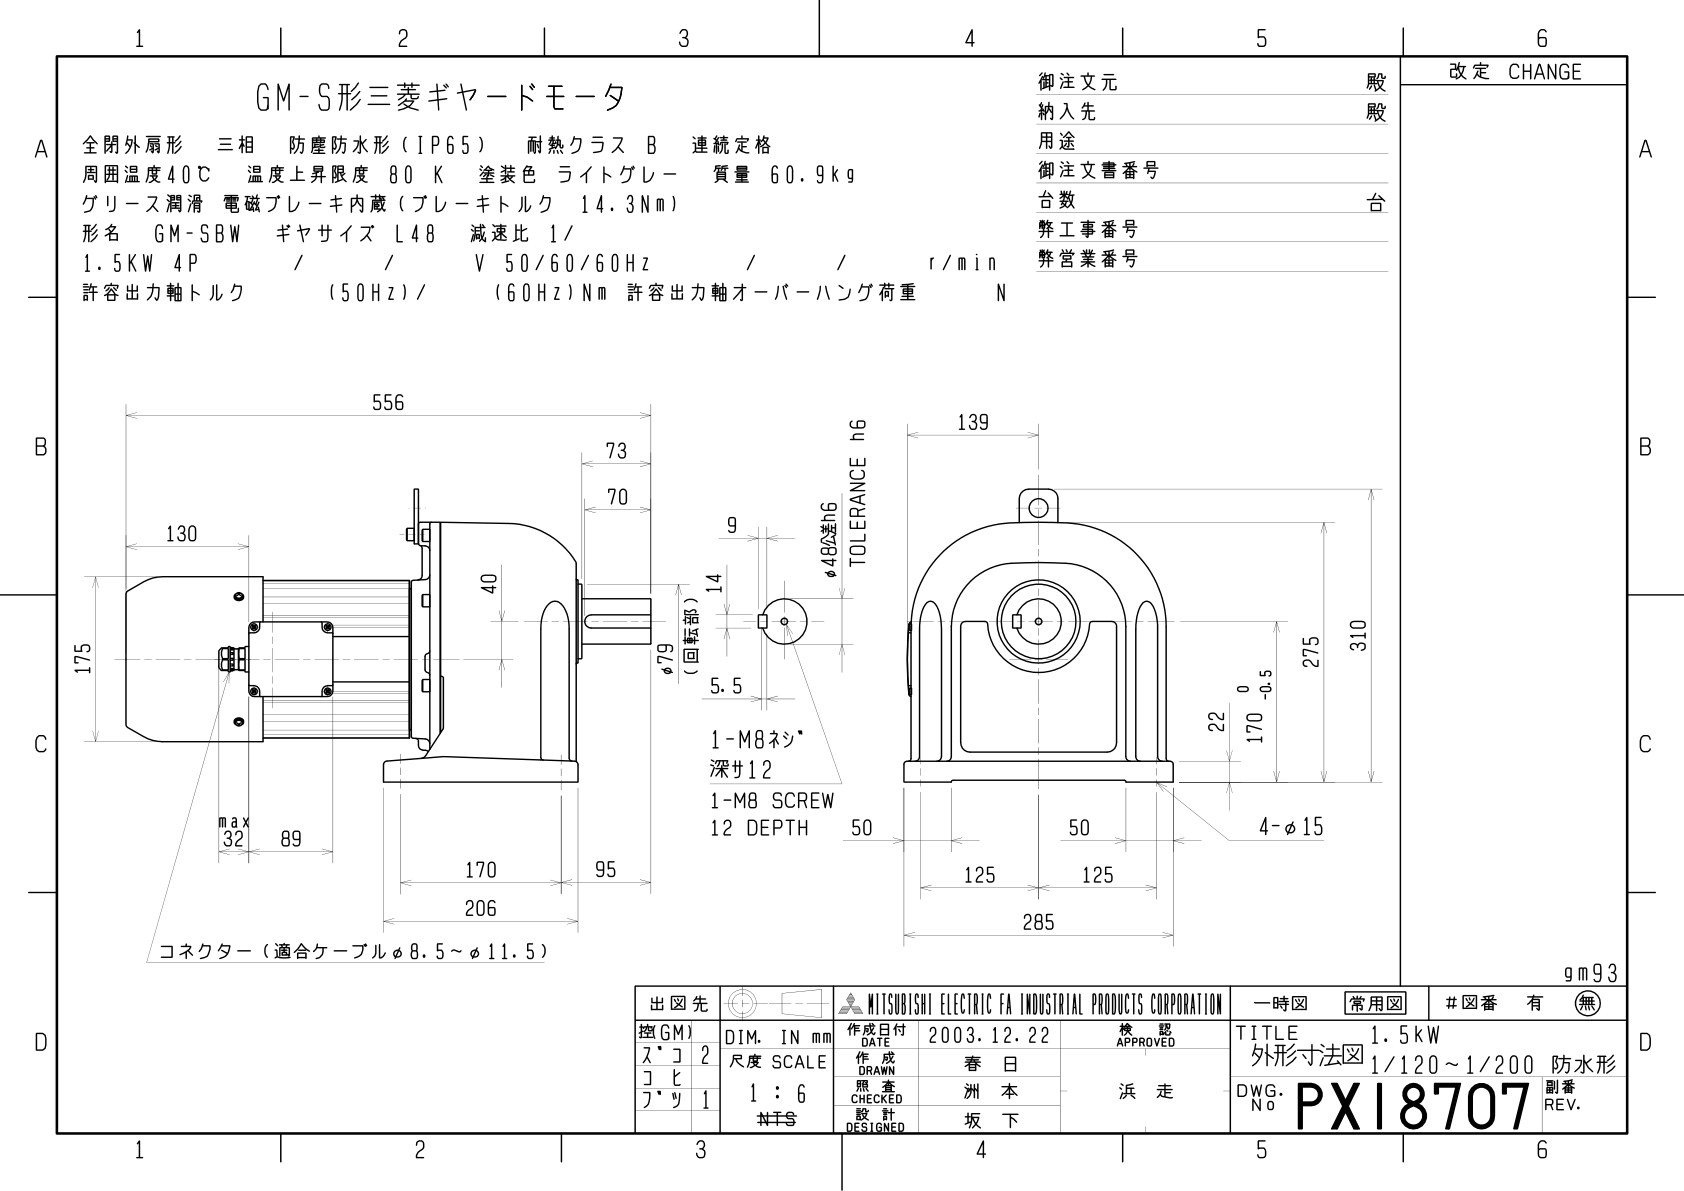GM_S_IP65＿三相_脚: (1, 1, 1669, 1178)
